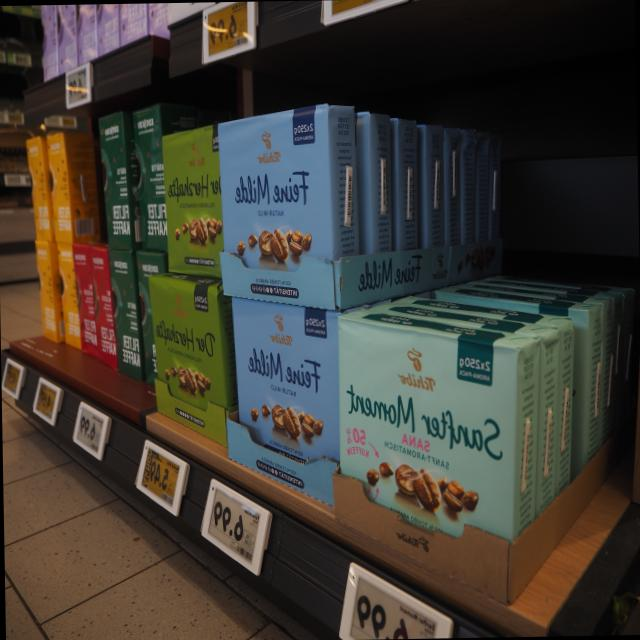Empty Shelf: (345, 107, 533, 348)
FM Gemahlen: (215, 101, 335, 308), (228, 296, 337, 508)
Herzhatfe Mundig: (148, 274, 230, 445), (159, 123, 221, 277)
SM Gemahlen: (334, 313, 520, 605)
